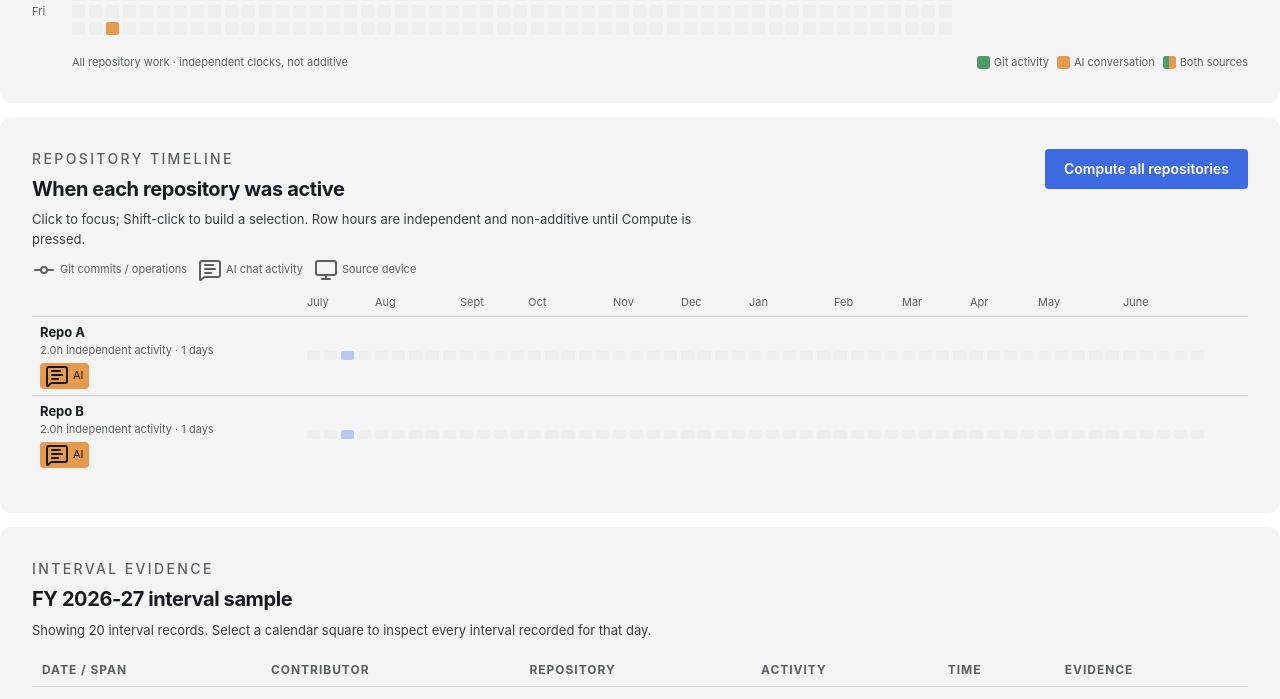
Test: TimesheetCalendar helpers › computes a timestamp union only after the repository selection is applied
This screenshot has width=1280, height=699.
(page scrolled)
Click the button "Repo A 2.0h independent activity · 1 days AI" at {"x": 640, "y": 355}, box [32,316,1248,395]
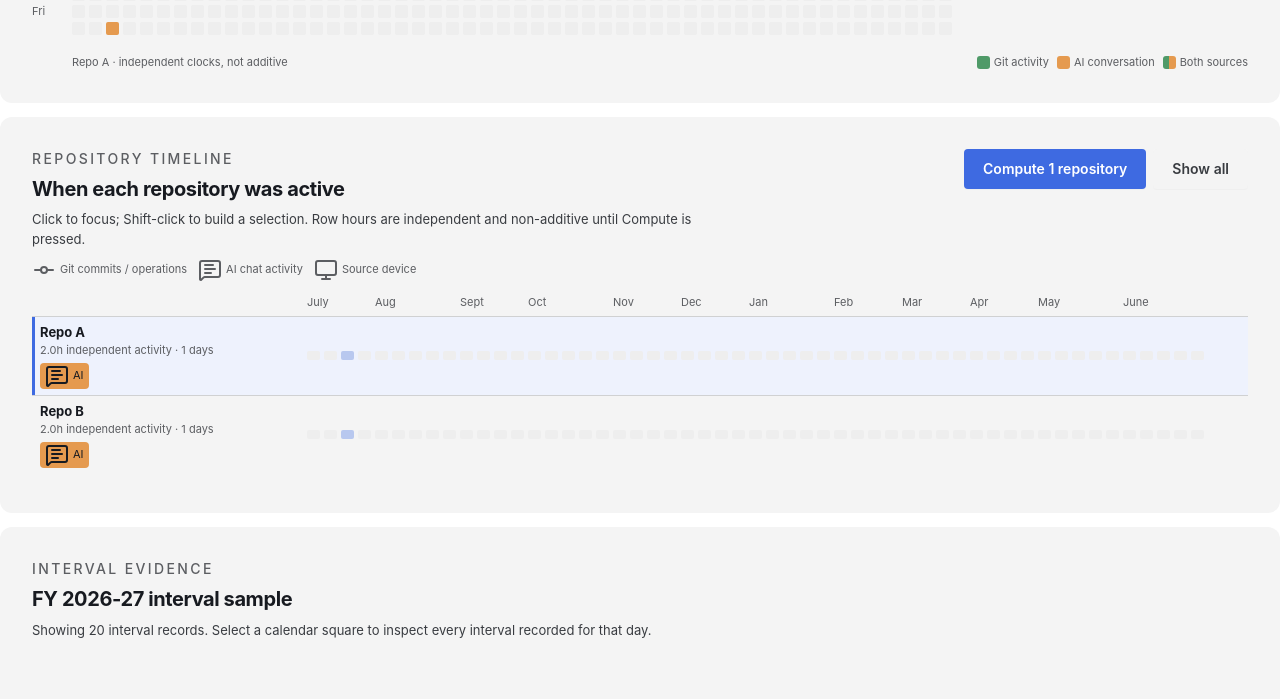
Click the button "Repo B 2.0h independent activity · 1 days AI" at {"x": 640, "y": 434}, box [32,395,1248,474]
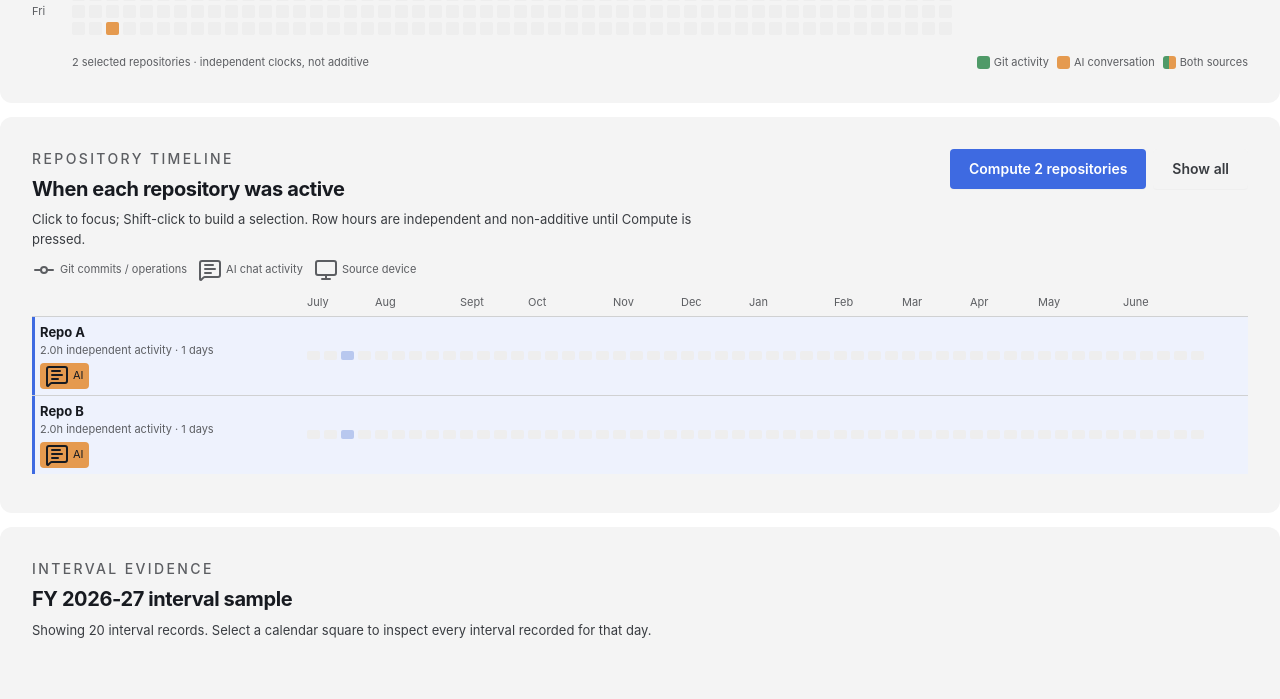
Click the button "Compute 2 repositories" at {"x": 1048, "y": 169}, box [950,149,1146,189]
(page scrolled)
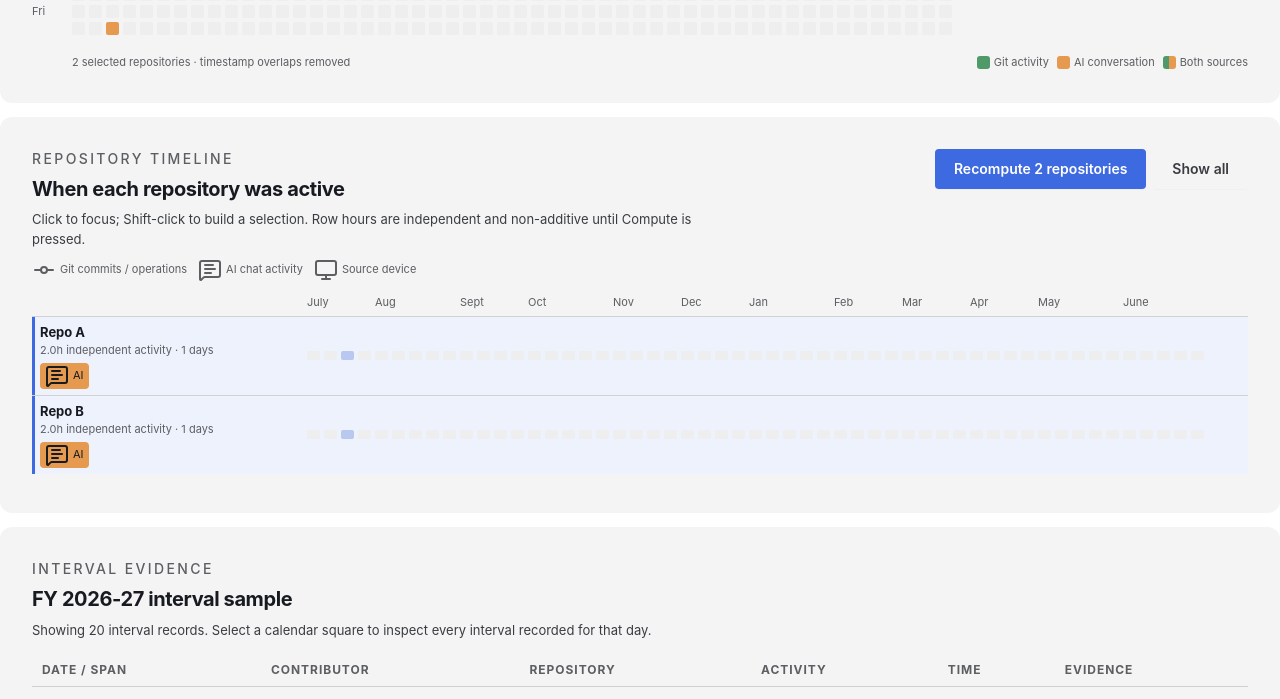
Click the button "Repo A 2.0h independent activity · 1 days AI" at {"x": 640, "y": 355}, box [32,316,1248,395]
(page scrolled)
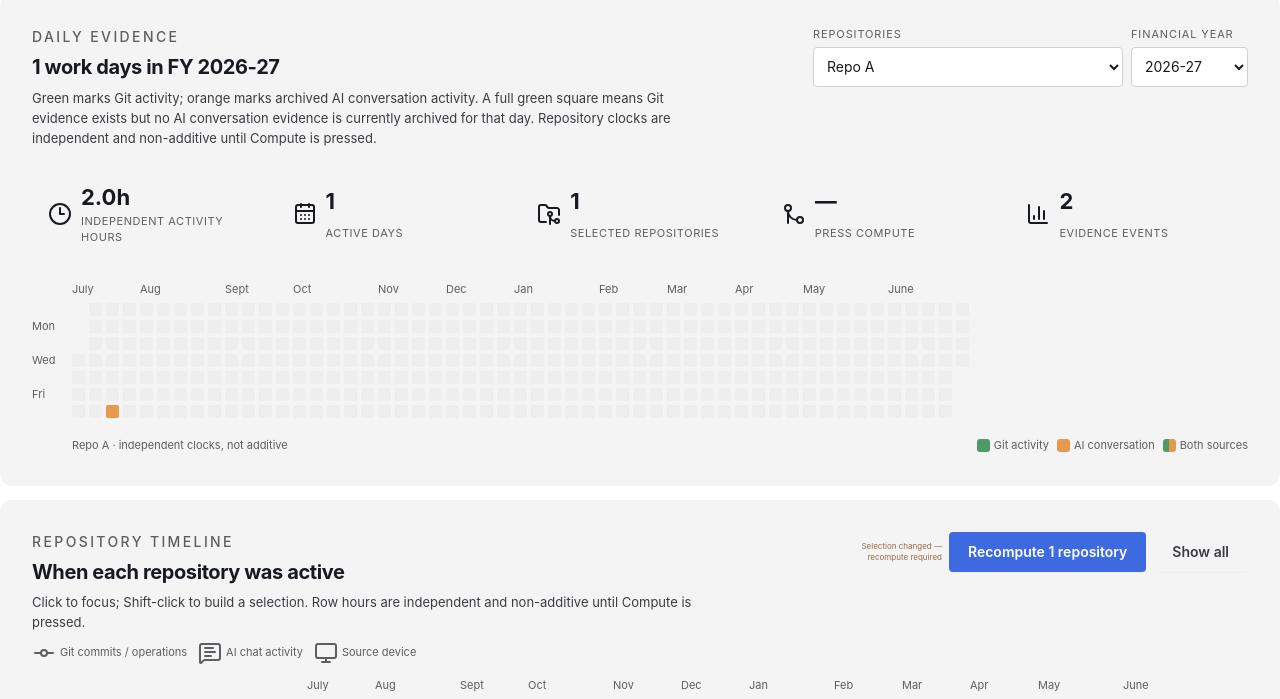
expect the text "Selection changed — recompute required" is shown: met, box [861,541,942,562]
expect the button "Recompute 1 repository" is shown: met, box [949,532,1146,572]
